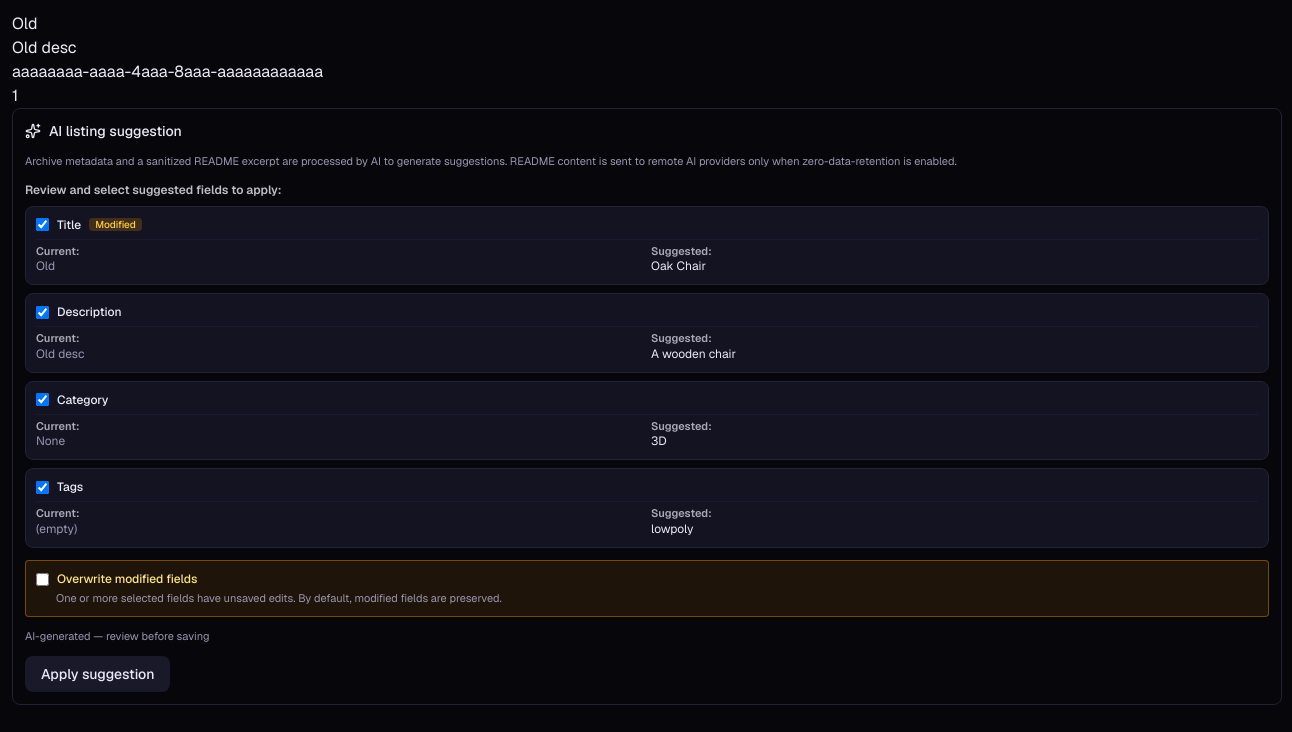
Test: ListingCopilotPanel › overwrites dirty fields when seller explicitly checks overwrite
The image size is (1292, 732).
Expected: the text "Oak Chair" is shown, [651,258,706,274]
Explicitly check overwrite
Click the checkbox labelled "Overwrite modified fields" at (42, 579), box [36,573,49,586]
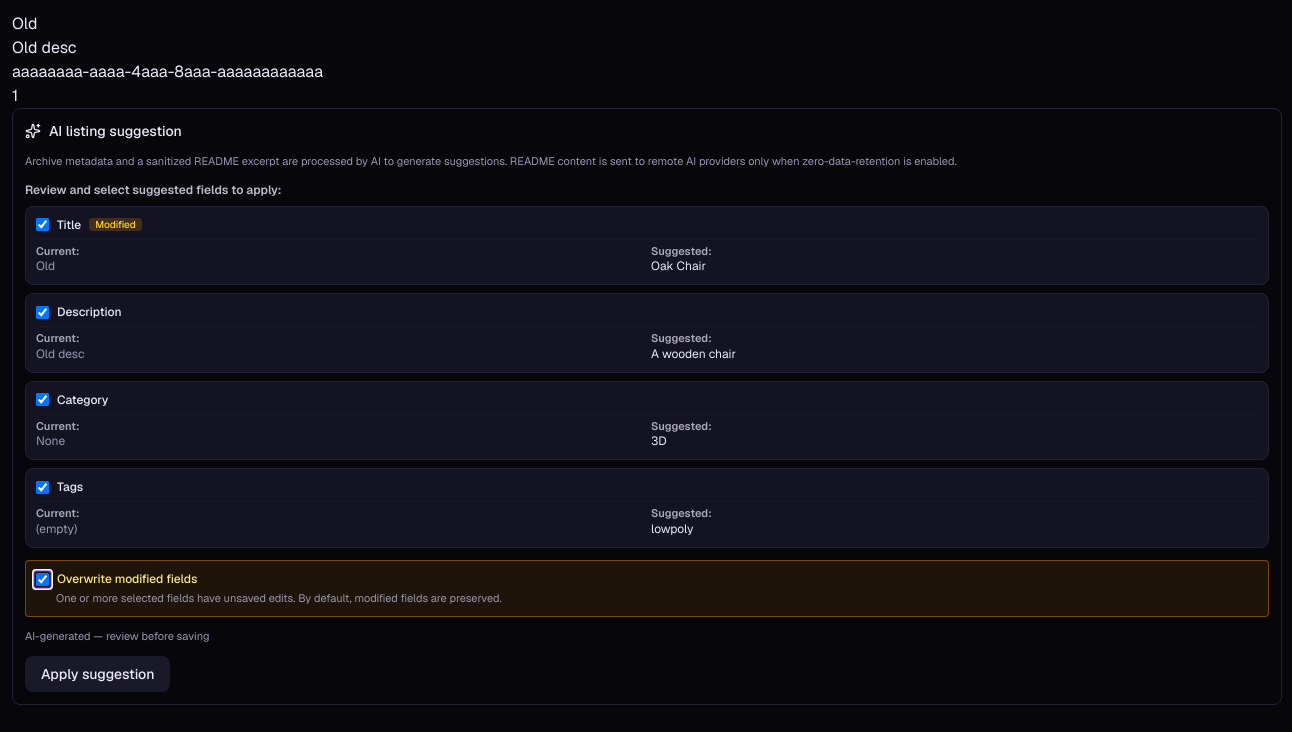
Click the button "Apply suggestion" at (98, 674), box [25,656,170,692]
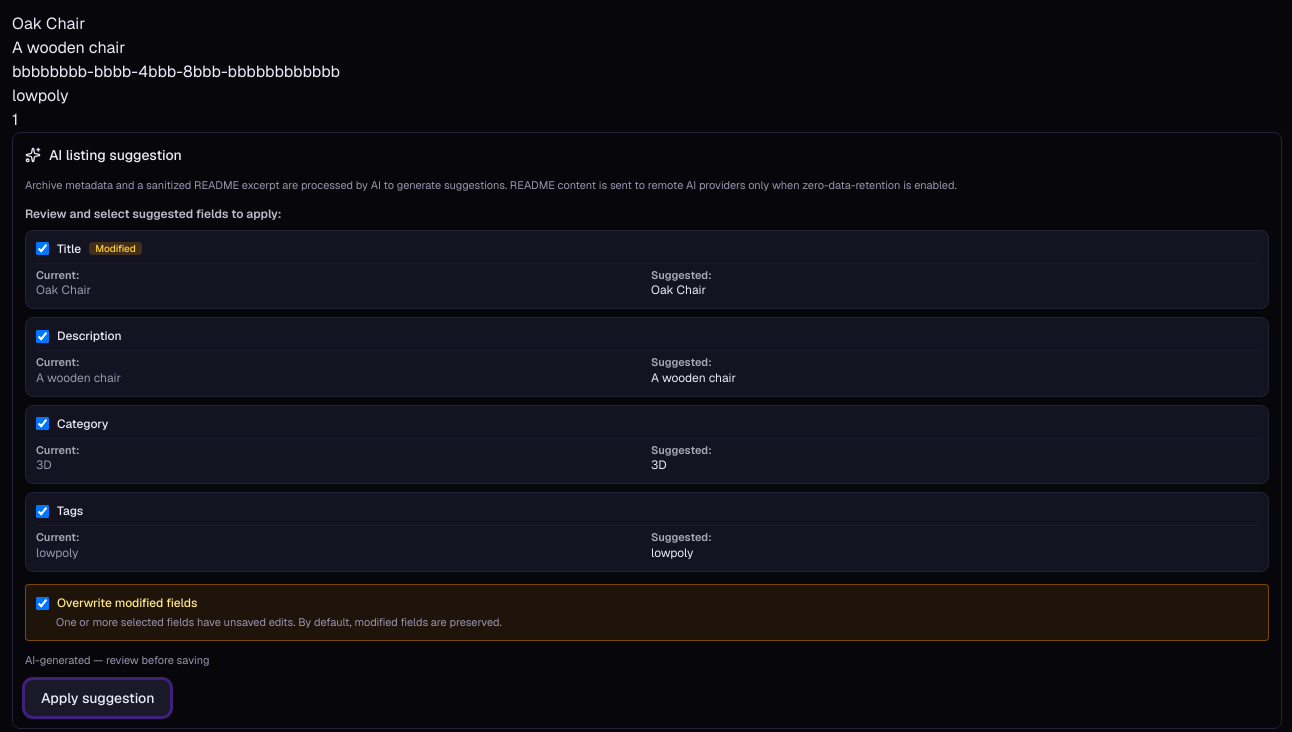
Now the text with test id "title" reads "Oak Chair", box [12,13,85,34]
Now the text with test id "description" reads "A wooden chair", box [12,37,125,58]
Now the text with test id "category" reads "bbbbbbbb-bbbb-4bbb-8bbb-bbbbbbbbbbbb", box [12,61,340,82]
